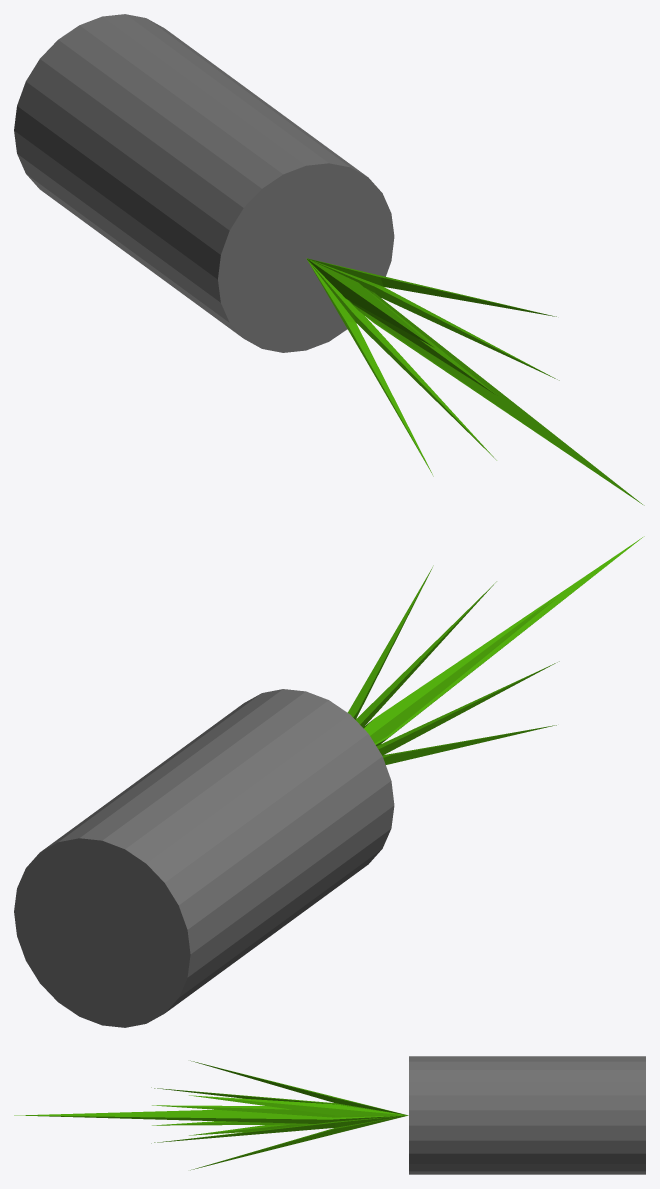
The model's file is Perenna100cm.obj.
The picture shows the model from 3 angles, top to bottom: view 1: azimuth 30°, elevation 25°; view 2: azimuth 150°, elevation 25°; view 3: azimuth 270°, elevation 25°; orthographic projection. The views are drawn at different scales.
Size of the model in its own units: 0.3 by 0.3 by 1.6.
